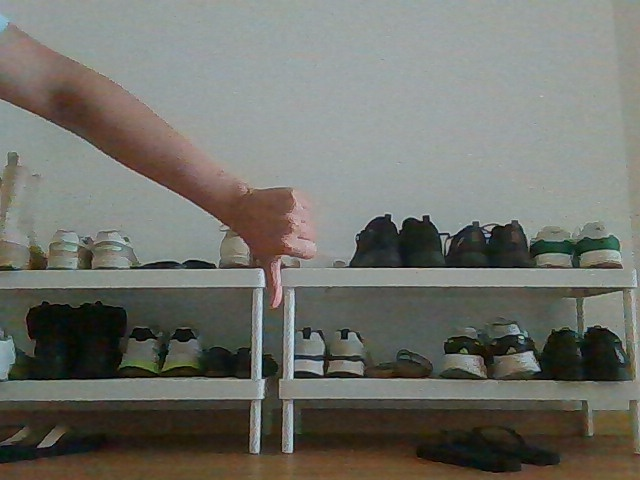thumbs_down: (235, 165, 322, 314)
